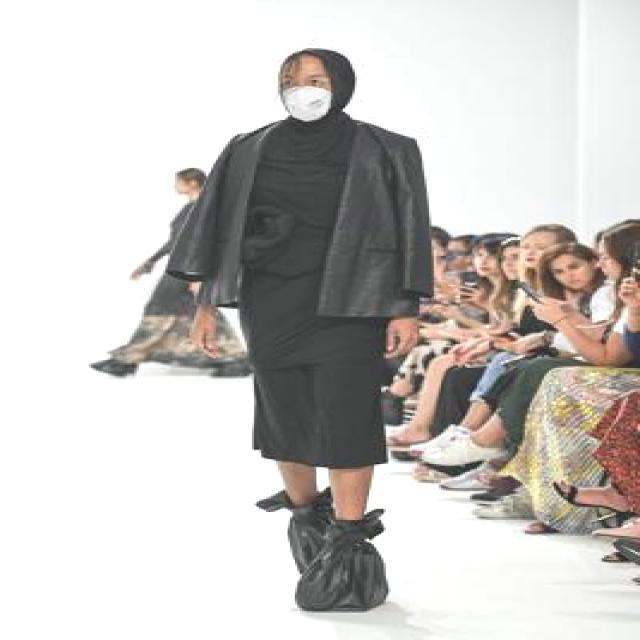face_mask: (280, 72, 336, 122)
face_nomask: (552, 259, 594, 291), (596, 248, 626, 282), (522, 240, 554, 269), (477, 250, 501, 275), (501, 252, 523, 278), (446, 247, 467, 270), (173, 178, 187, 195)
hand_noglove: (381, 315, 429, 357), (188, 314, 231, 360), (521, 295, 572, 327), (616, 278, 640, 308)
head_nohelmet: (285, 43, 343, 75), (590, 217, 640, 252), (517, 219, 574, 245), (540, 240, 591, 267)
person: (158, 44, 434, 602)
